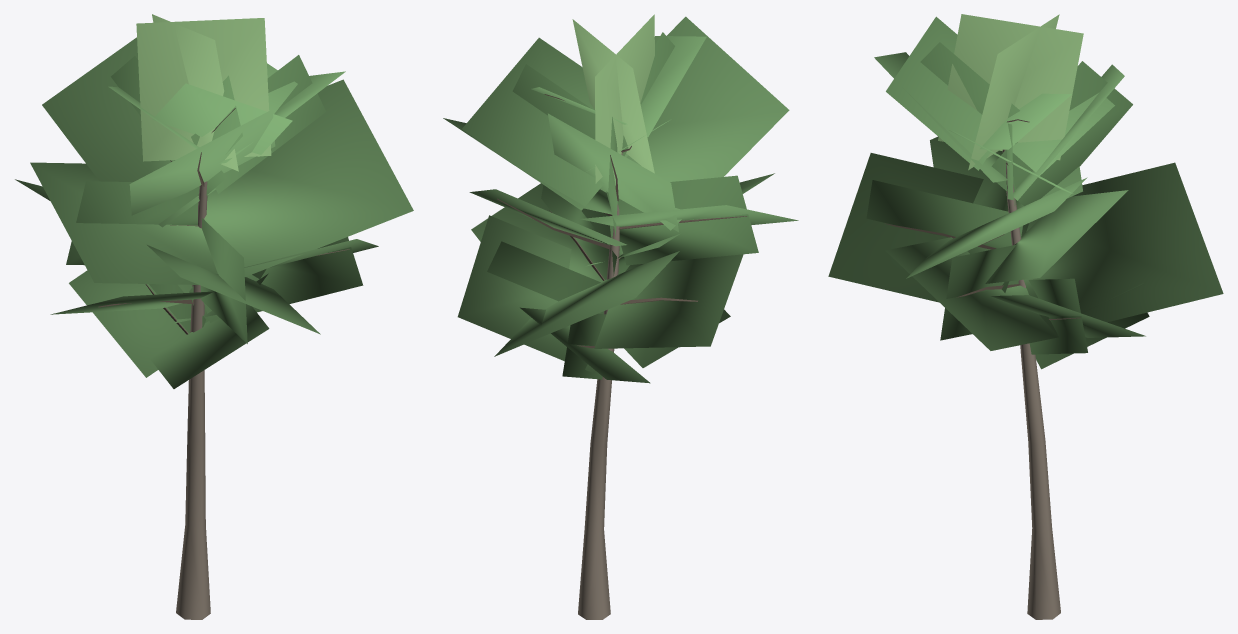
The model's file is tree_pine_a_lod1.glb.
The picture shows the model from 3 angles, left to right: view 1: azimuth 30°, elevation 25°; view 2: azimuth 150°, elevation 25°; view 3: azimuth 270°, elevation 25°; orthographic projection. The views are drawn at different scales.
Visible parts, largest first — view 1: tree_pine_a_lod1; view 2: tree_pine_a_lod1; view 3: tree_pine_a_lod1.
Part boxes in pixels (x1,y1,x2,y2): tree_pine_a_lod1: [15, 14, 413, 619]; tree_pine_a_lod1: [443, 14, 798, 619]; tree_pine_a_lod1: [828, 14, 1223, 619].
Bounding box in the file's own units: 8.2 × 15.09 × 9.17.
